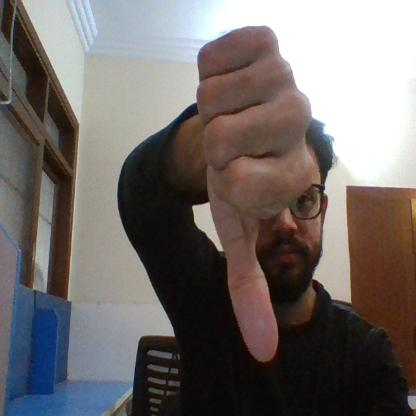thumbs-down: (190, 15, 321, 368)
